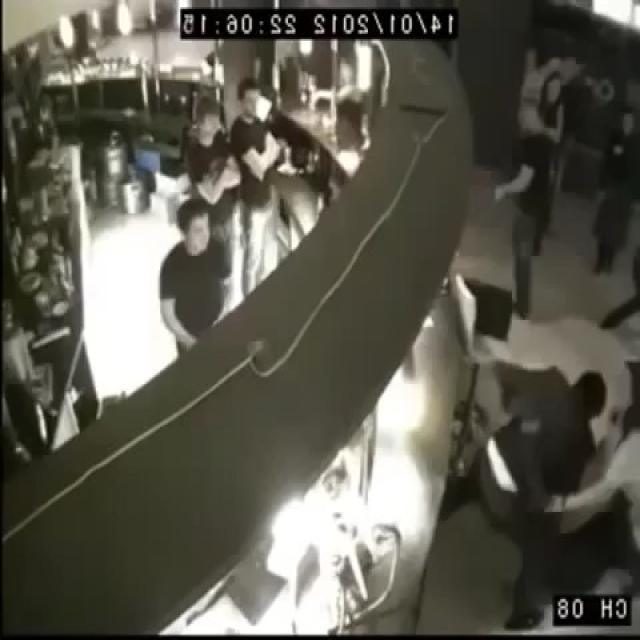fight: (476, 367, 638, 636)
